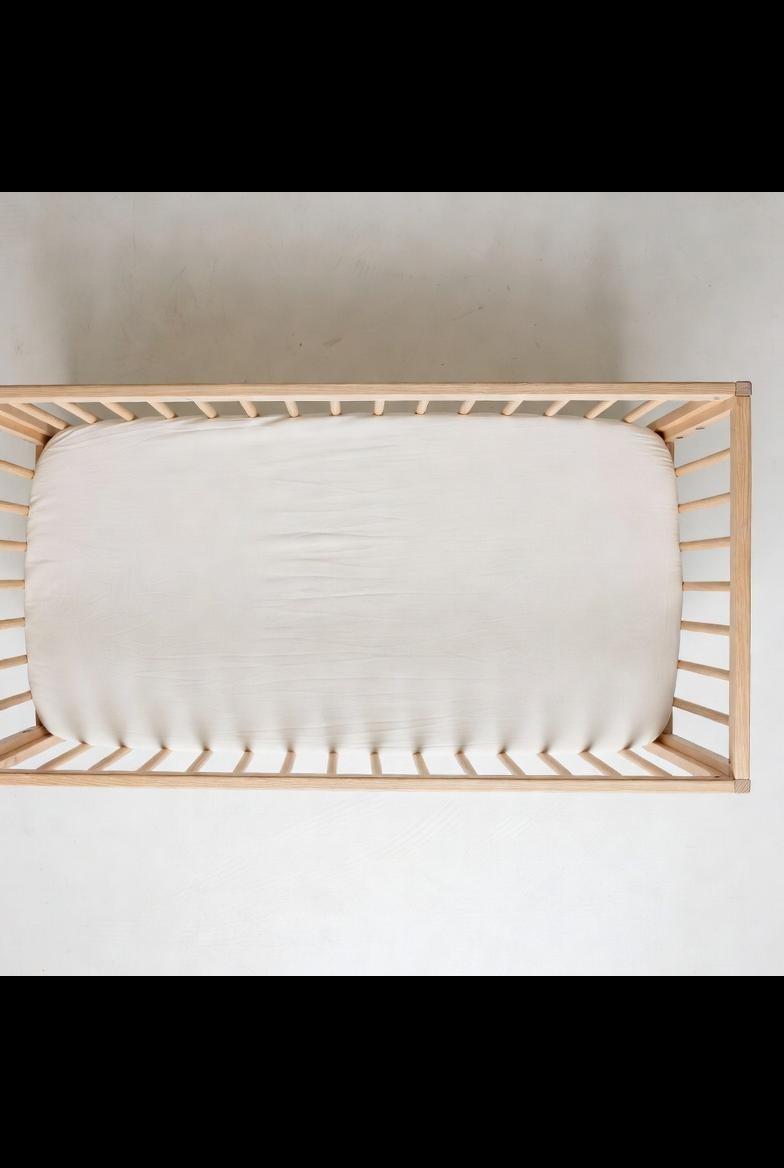crib: (0, 382, 750, 793)
